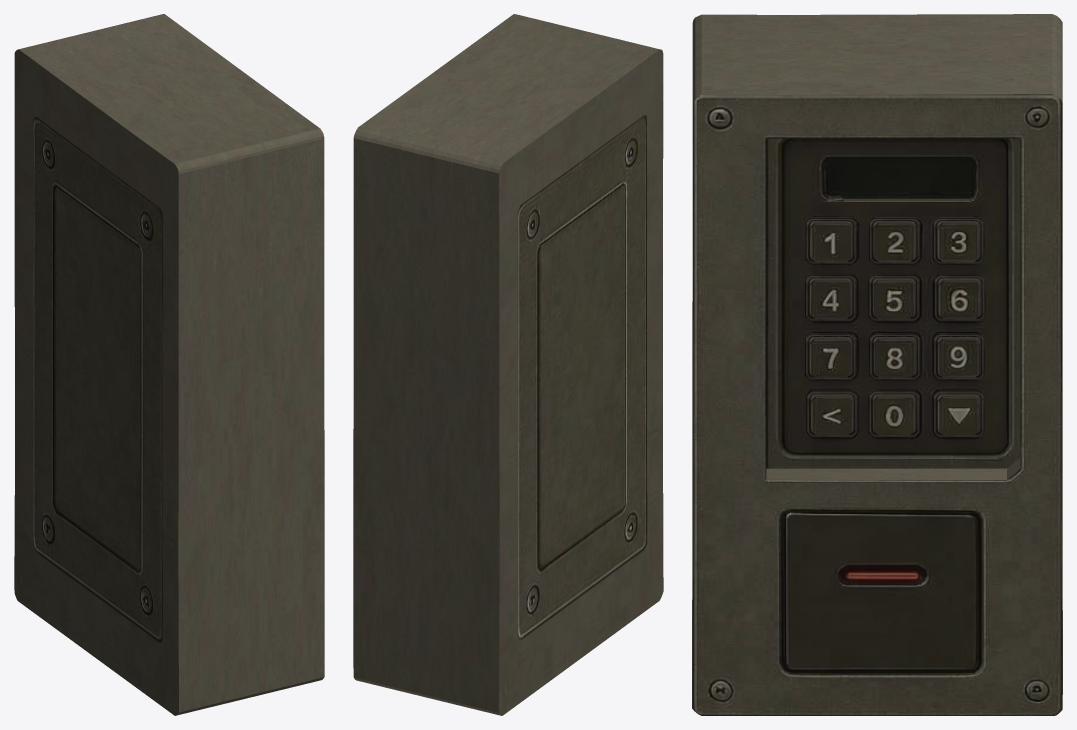
File: Passcode.fbx
The picture shows the model from 3 angles, left to right: view 1: azimuth 30°, elevation 25°; view 2: azimuth 150°, elevation 25°; view 3: azimuth 270°, elevation 25°; orthographic projection. The views are drawn at different scales.
Visible parts, largest first — view 1: Base; view 2: Base; view 3: Base, 1, 0, 5, <, 7, 8, 9, 2, Down, 6, 3 (+1 smaller).
Boxes of the visible parts, x1,y1,x2,y2 form: Base: (14, 14, 324, 715); Base: (353, 14, 663, 715); Base: (692, 14, 1062, 715); 1: (805, 217, 857, 264); 0: (868, 390, 920, 437); 5: (868, 274, 919, 321); <: (806, 390, 857, 437); 7: (805, 333, 856, 380); 8: (869, 333, 920, 380); 9: (933, 333, 984, 380); 2: (869, 217, 920, 264); Down: (933, 390, 984, 437); 6: (934, 274, 985, 321); 3: (933, 217, 984, 264).
Bounding box in the file's own units: 200 × 725 × 392.
2 materials, 2 textured.
